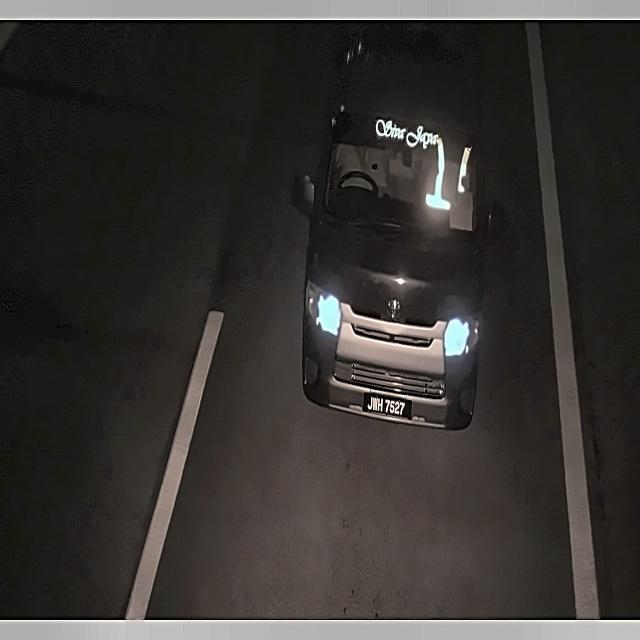car: (359, 388, 418, 427)
